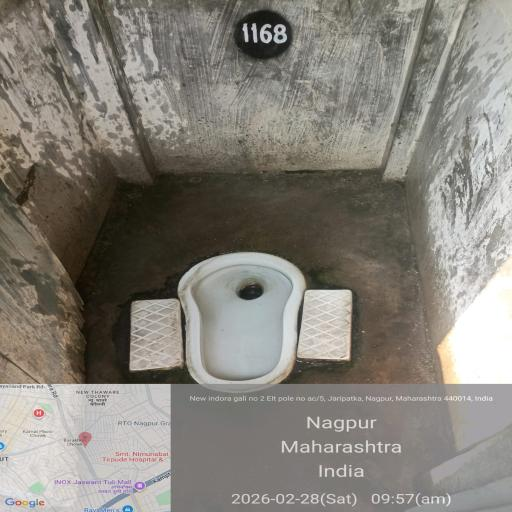dirty_floor: (64, 174, 439, 400), (23, 2, 491, 174)
partial_dirty_indian: (135, 254, 338, 381)
